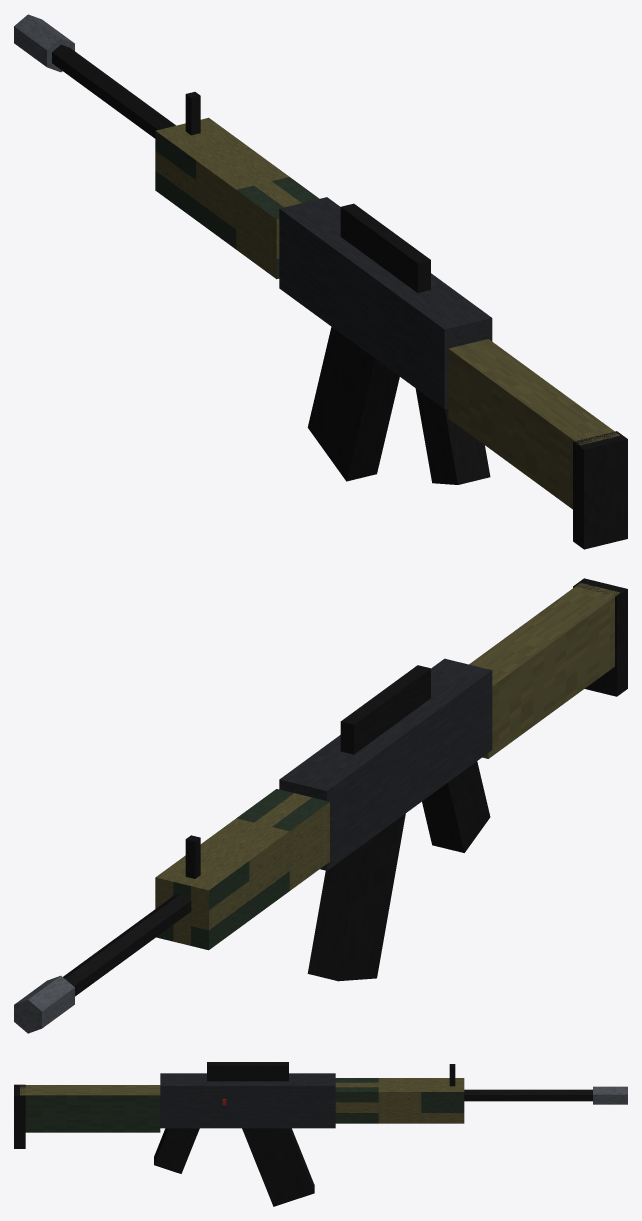
The model's file is weapon_rifle.glb.
3 views of the same model, one above another, from view 1: azimuth 30°, elevation 25°; view 2: azimuth 150°, elevation 25°; view 3: azimuth 270°, elevation 25° (orthographic). The views are drawn at different scales.
Visible parts, largest first — view 1: weapon_rifle; view 2: weapon_rifle; view 3: weapon_rifle.
Boxes of the visible parts, <box> form: weapon_rifle: <box>14,14,627,549</box>; weapon_rifle: <box>14,578,627,1033</box>; weapon_rifle: <box>14,1062,627,1206</box>.
Size of the model in its own units: 0.057 by 0.2627 by 1.05.
Materials: 1 (1 with a texture image).
